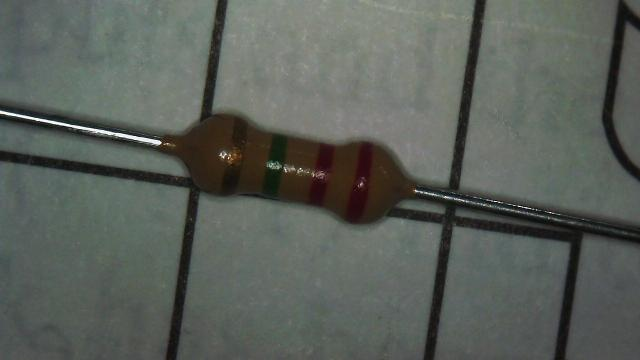gold: (221, 116, 248, 194)
green: (262, 134, 288, 198)
red: (346, 142, 372, 222), (308, 143, 334, 206)
resistor: (164, 91, 418, 250)
